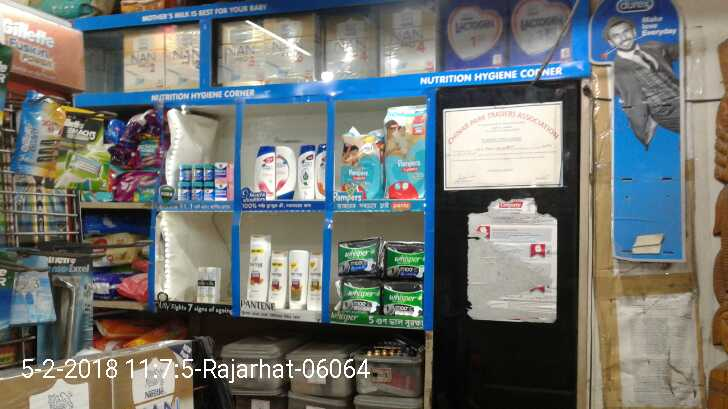vicks: (176, 159, 233, 203)
